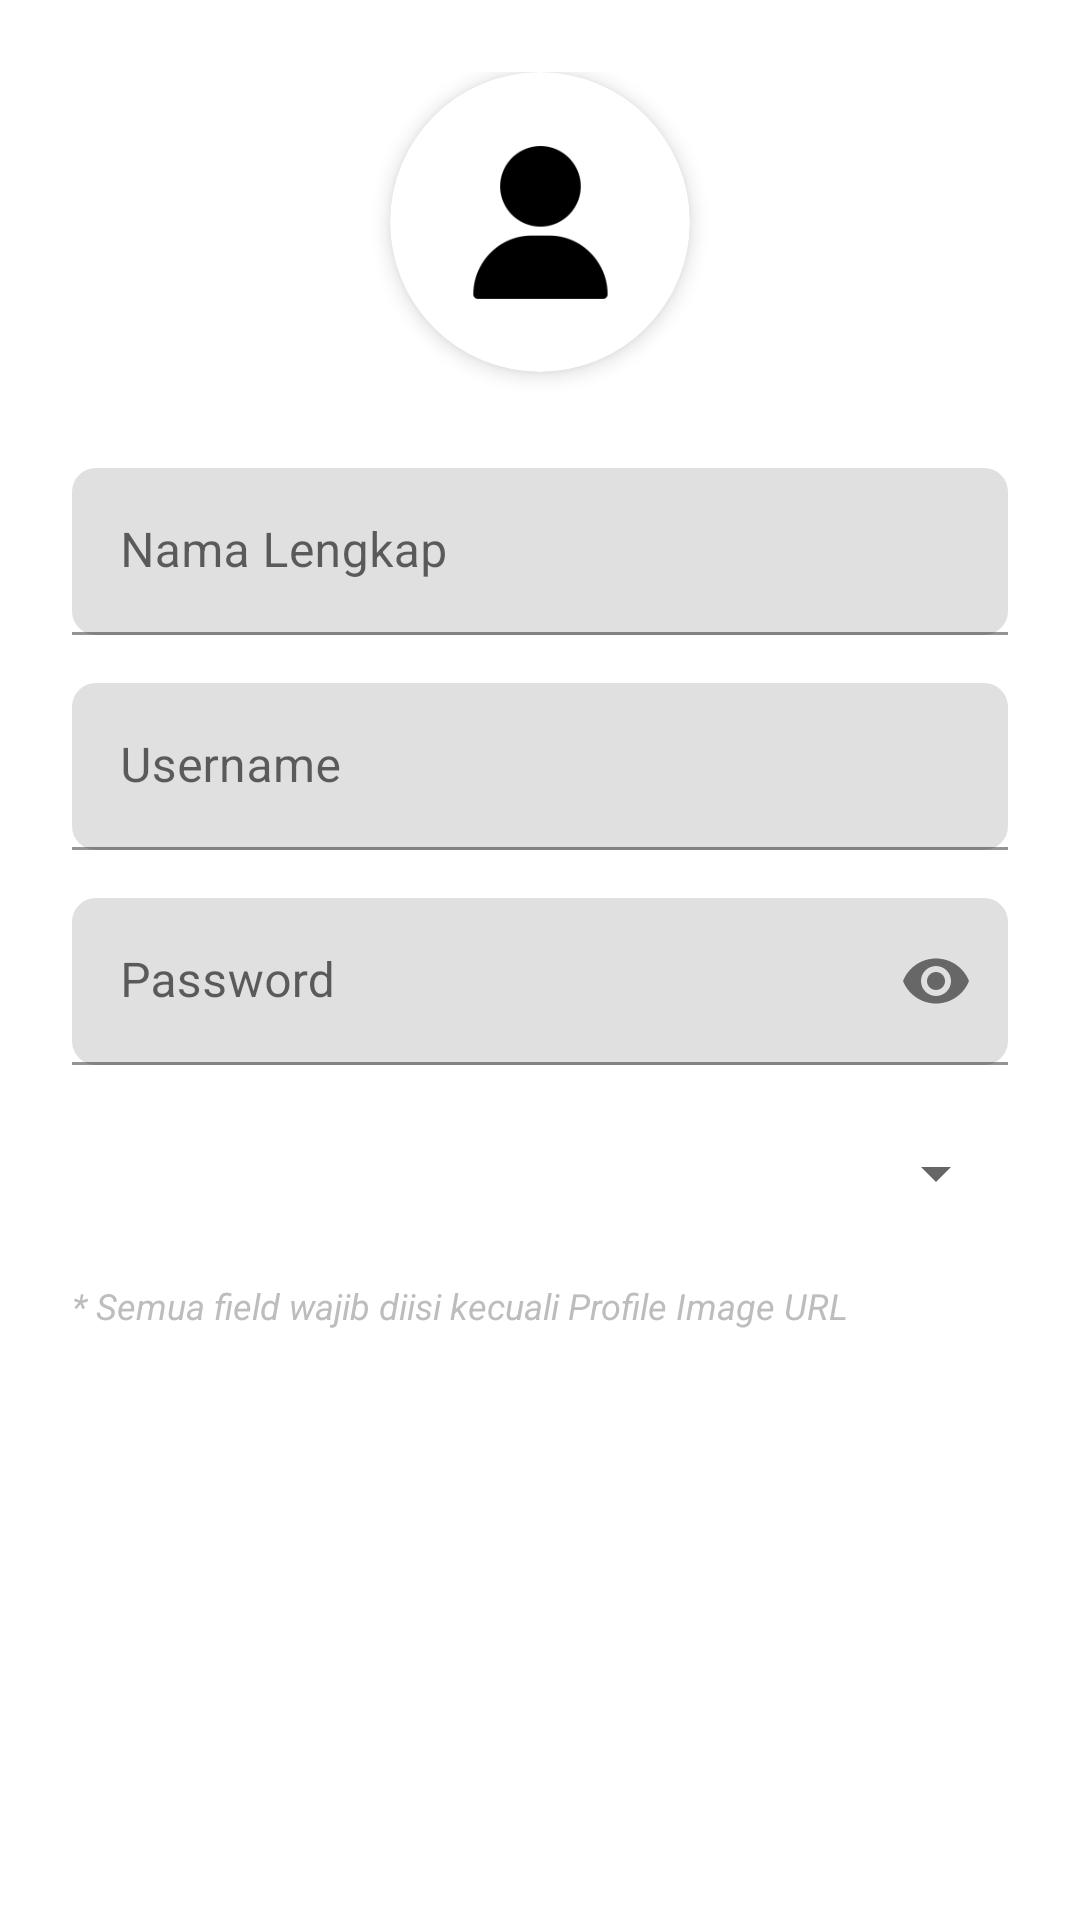

Screen size 1080w x 1920h. Icon name, then its box in pixels as BBox(x1, y1, x2, y2):
user: BBox(419, 146, 661, 372)
